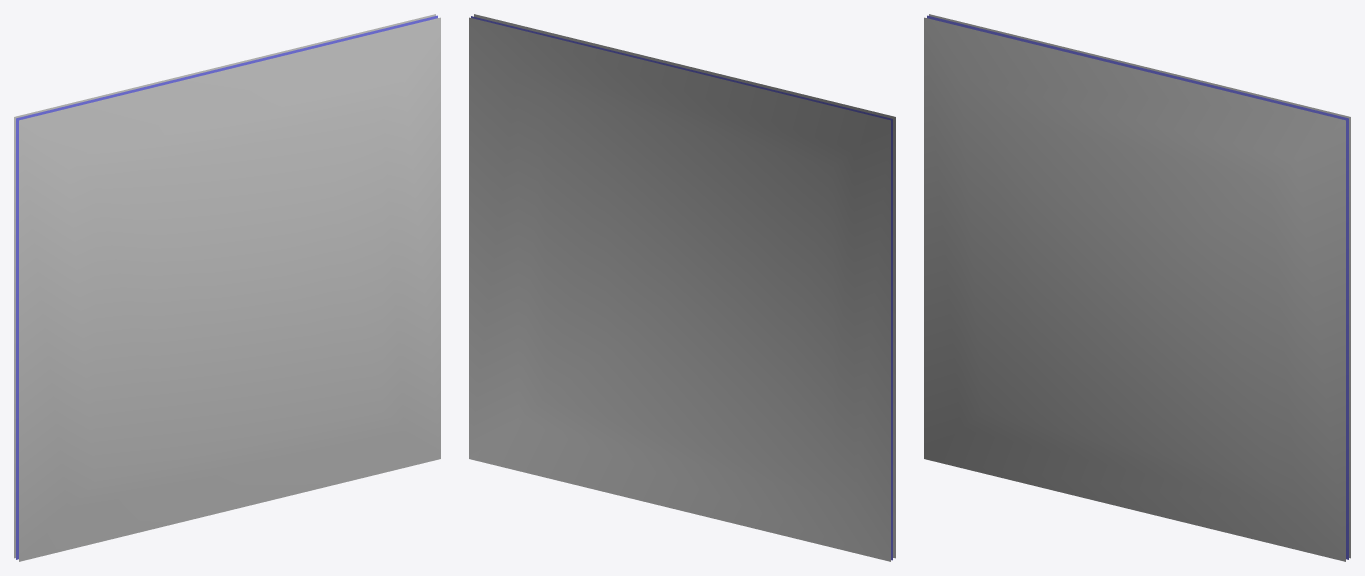
File: p_mesh_enviroment_lava_lavasplash02.fbx
The picture shows the model from 3 angles, left to right: view 1: azimuth 30°, elevation 25°; view 2: azimuth 150°, elevation 25°; view 3: azimuth 330°, elevation 25°; orthographic projection.
Visible parts, largest first — view 1: lavasplash02; view 2: lavasplash02; view 3: lavasplash02.
Part boxes in pixels (x1=…): lavasplash02: x1=14, y1=14, x2=440, y2=561; lavasplash02: x1=469, y1=14, x2=895, y2=561; lavasplash02: x1=924, y1=14, x2=1350, y2=561.
Bounding box in the file's own units: 2 × 2 × 0.1653.
